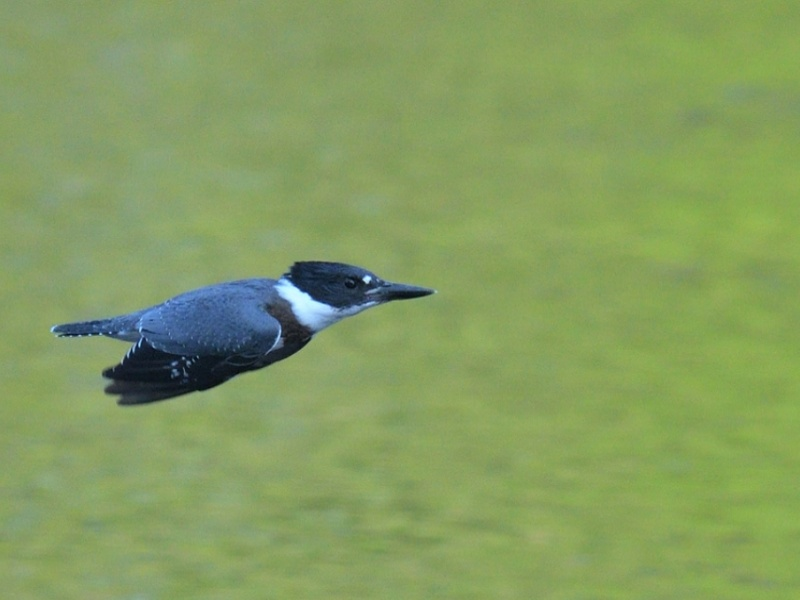kingfisher: (46, 258, 439, 411)
